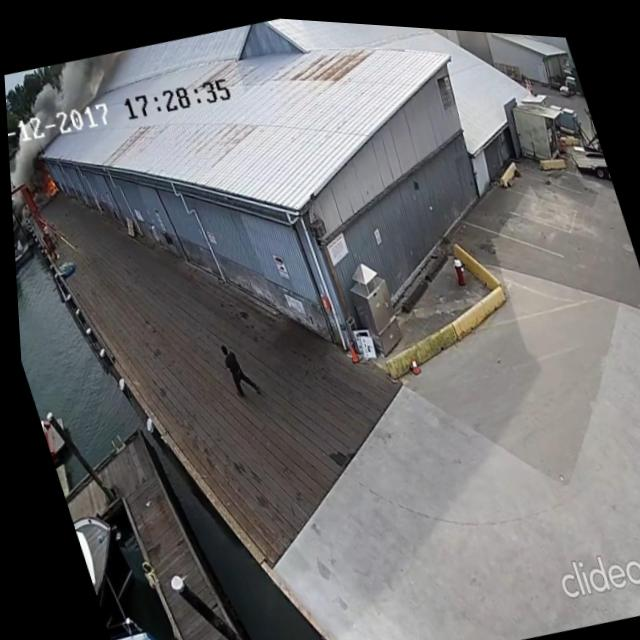fire: (34, 168, 60, 200)
